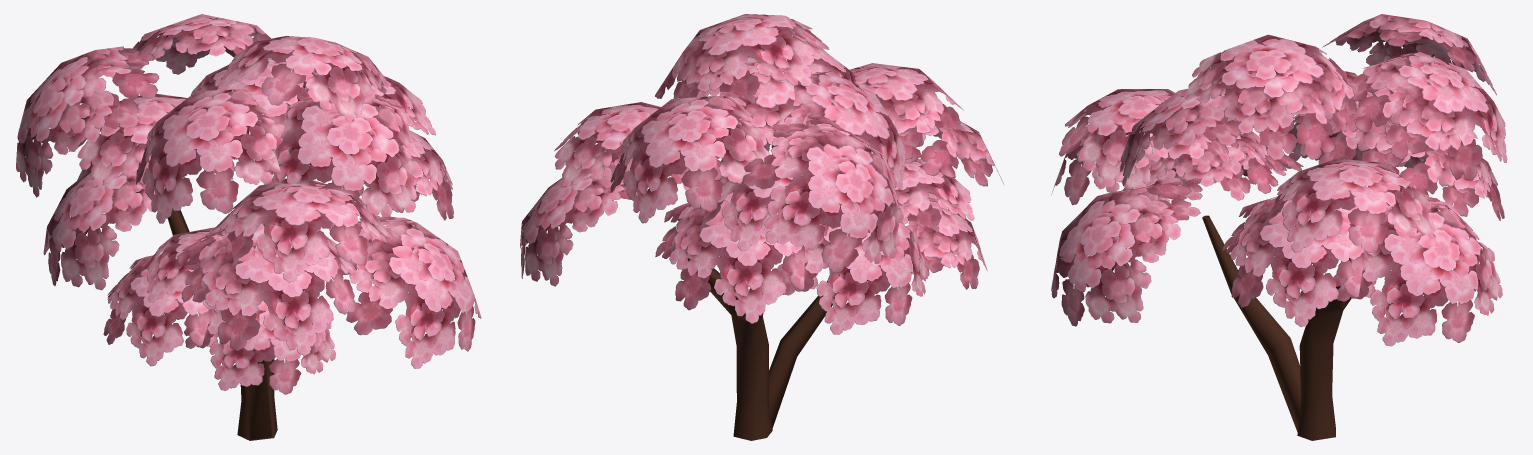
The model's file is Town_Tree_B.FBX.
The picture shows the model from 3 angles, left to right: view 1: azimuth 30°, elevation 25°; view 2: azimuth 150°, elevation 25°; view 3: azimuth 270°, elevation 25°; orthographic projection. The views are drawn at different scales.
Parts seen in each view (by area): view 1: Town_Tree_B; view 2: Town_Tree_B; view 3: Town_Tree_B.
Boxes of the visible parts, x1=… form: Town_Tree_B: x1=16, y1=14, x2=481, y2=440; Town_Tree_B: x1=520, y1=14, x2=1003, y2=440; Town_Tree_B: x1=1051, y1=14, x2=1507, y2=440.
Size of the model in its own units: 571 by 556 by 616.
